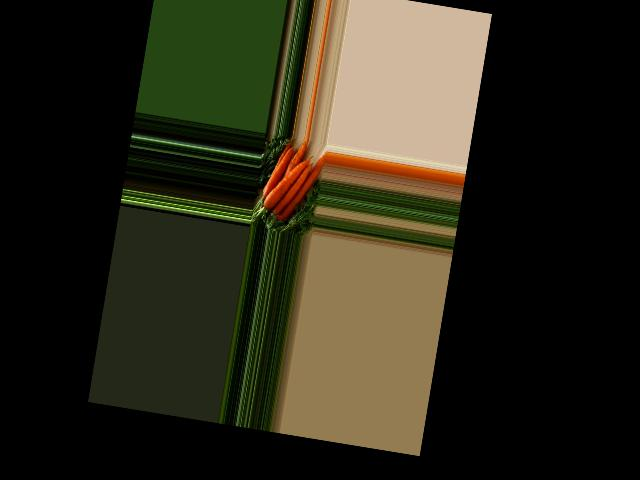carrot: (276, 147, 326, 230)
